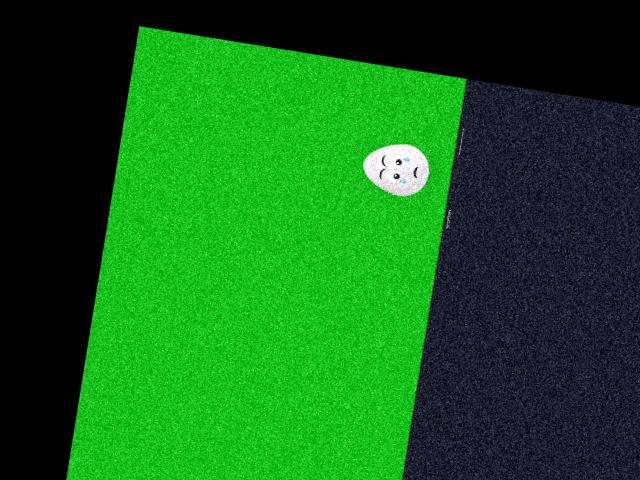egg: (359, 138, 432, 199)
